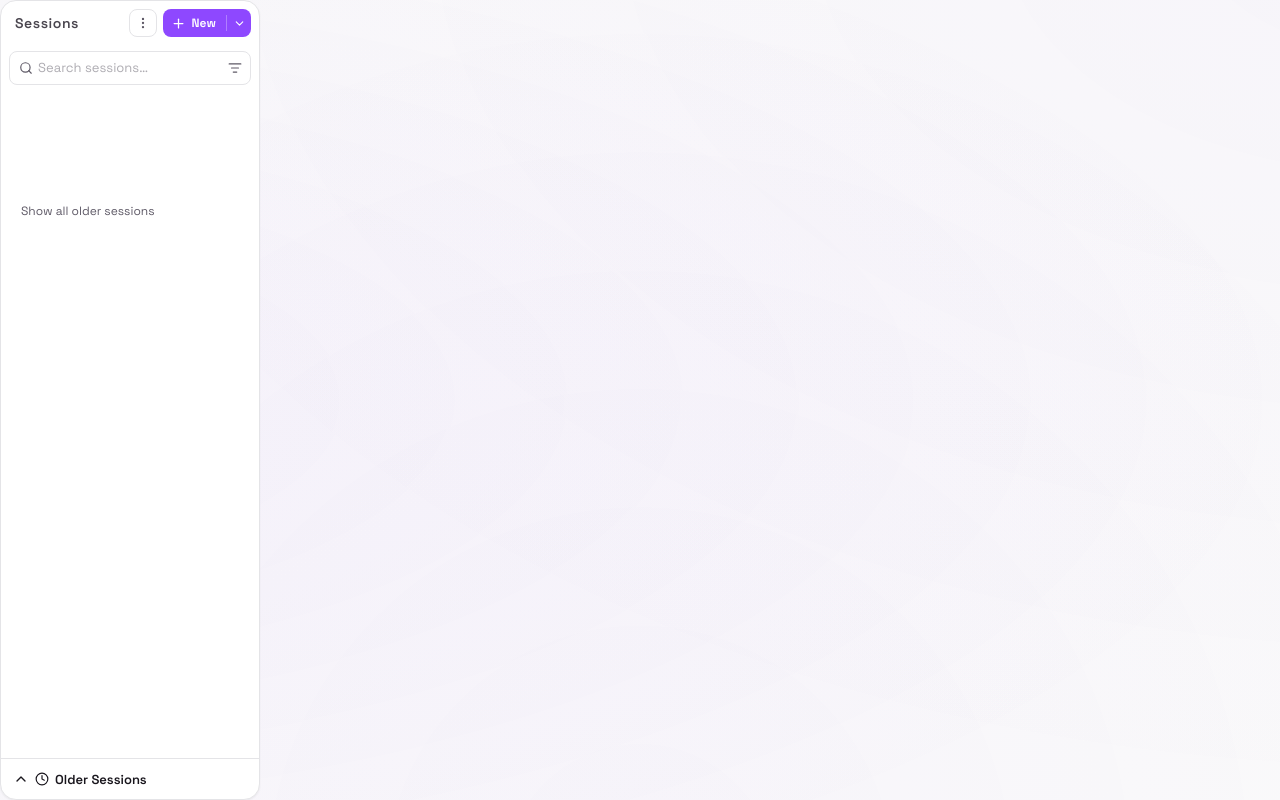
it: ChatSidebar – offline guards › offline history rows expose aria-disabled=true for screen readers
The width and height of the screenshot is (1280, 800).
Step 1. Click the button "Older Sessions" → [80, 779], box top-left (13, 770), bottom-right (147, 788)
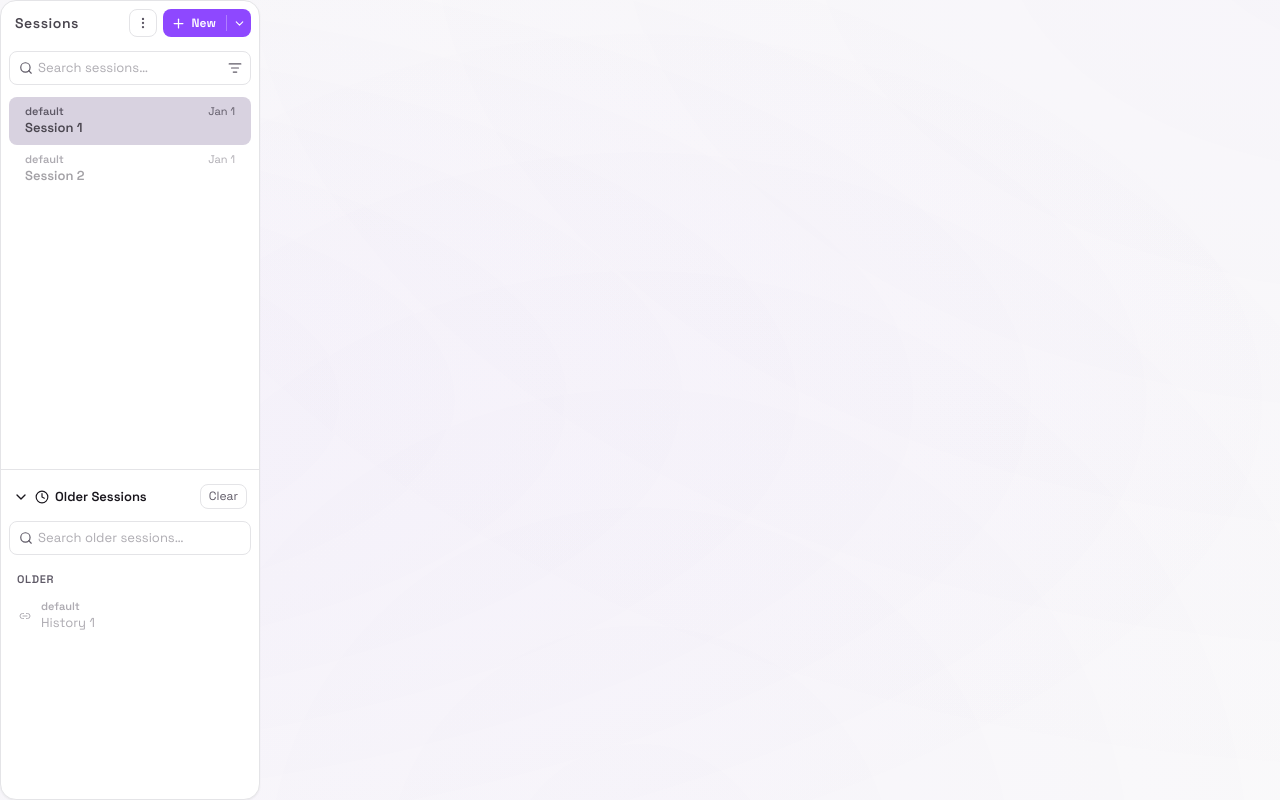
expect the button "default History 1" is shown: met, box top-left (19, 599), bottom-right (95, 631)
